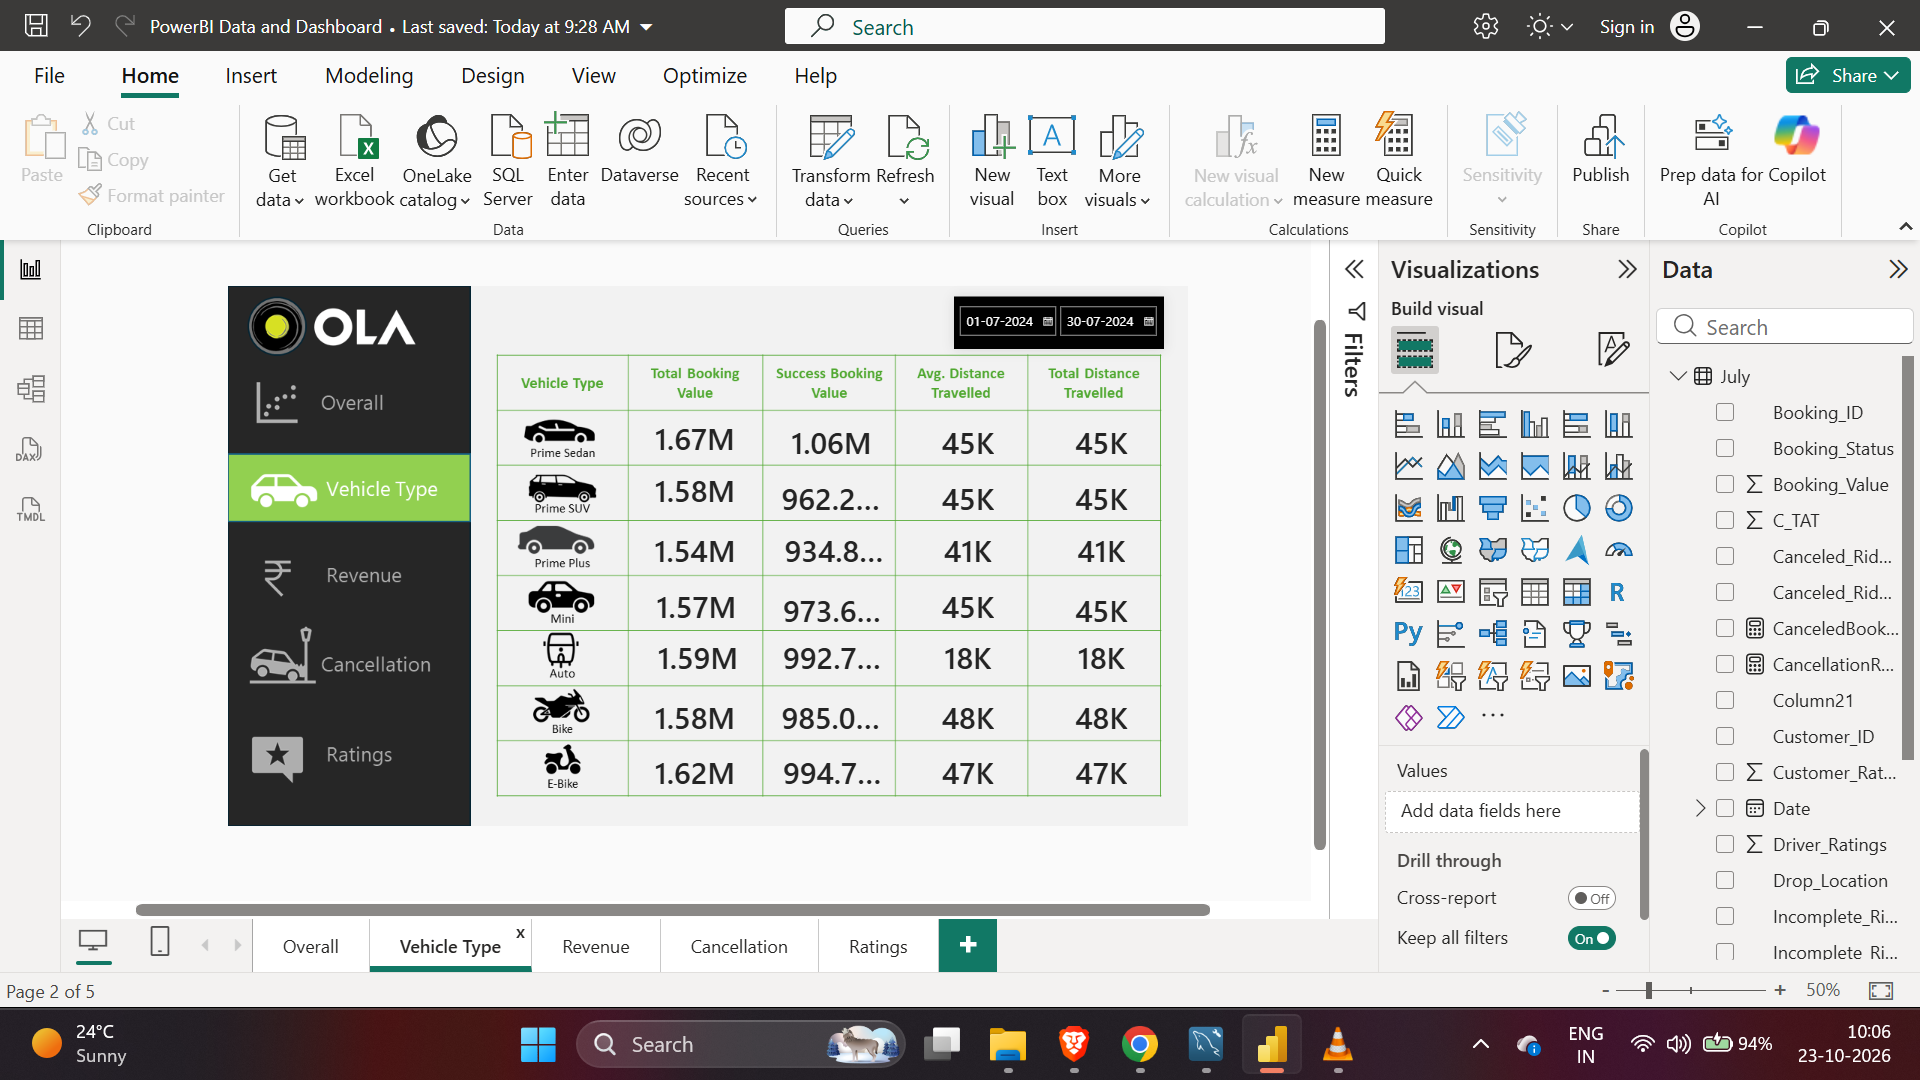

What the dashboard file says about the page in this screenshot:
{"tool":"powerbi","page":{"name":"Vehicle Type","canvas":[1920,1080],"ordinal":1},"visuals":[{"type":"actionButton","box":[317.3,403.2,324.5,85.9],"z":0},{"type":"actionButton","box":[317.3,515.4,324.5,85.9],"z":1000},{"type":"actionButton","box":[317.3,620.3,324.5,97.8],"z":2000},{"type":"actionButton","box":[317.3,756.3,324.5,97.8],"z":3000},{"type":"actionButton","box":[317.3,291.1,324.5,85.9],"z":4000},{"type":"cardVisual","fields":{"Data":["Sum(July.Booking_Value)"]},"box":[860,346.7,165,63.3],"z":4001},{"type":"cardVisual","fields":{"Data":["Sum(July.Booking_Value)"]},"box":[860,415,165,63.3],"z":4002},{"type":"cardVisual","fields":{"Data":["Sum(July.Booking_Value)"]},"box":[860,495,165,63.3],"z":4003},{"type":"cardVisual","fields":{"Data":["Sum(July.Booking_Value)"]},"box":[861.7,570,165,63.3],"z":4004},{"type":"cardVisual","fields":{"Data":["Sum(July.Booking_Value)"]},"box":[863.3,638.3,165,63.3],"z":4005},{"type":"cardVisual","fields":{"Data":["Sum(July.Booking_Value)"]},"box":[860,718.3,165,63.3],"z":4006},{"type":"cardVisual","fields":{"Data":["Sum(July.Booking_Value)"]},"box":[860,791.7,165,63.3],"z":4007},{"type":"cardVisual","fields":{"Data":["Sum(July.Booking_Value)"]},"box":[1041.7,351.7,165,63.3],"z":4008},{"type":"cardVisual","fields":{"Data":["Sum(July.Booking_Value)"]},"box":[1041.7,426.7,165,63.3],"z":4009},{"type":"cardVisual","fields":{"Data":["Sum(July.Booking_Value)"]},"box":[1045,495,165,63.3],"z":4010},{"type":"cardVisual","fields":{"Data":["Sum(July.Booking_Value)"]},"box":[1043.3,575,165,63.3],"z":4011},{"type":"cardVisual","fields":{"Data":["Sum(July.Booking_Value)"]},"box":[1043.3,638.3,165,63.3],"z":4012},{"type":"cardVisual","fields":{"Data":["Sum(July.Booking_Value)"]},"box":[1041.7,718.3,165,63.3],"z":4013},{"type":"cardVisual","fields":{"Data":["Sum(July.Booking_Value)"]},"box":[1043.3,791.7,165,63.3],"z":4014},{"type":"cardVisual","fields":{"Data":["Sum(July.Ride_Distance)"]},"box":[1223.3,351.7,165,63.3],"z":4015},{"type":"cardVisual","fields":{"Data":["Sum(July.Ride_Distance)"]},"box":[1223.3,426.7,165,63.3],"z":4016},{"type":"cardVisual","fields":{"Data":["Sum(July.Ride_Distance)"]},"box":[1223.3,495,165,63.3],"z":4017},{"type":"cardVisual","fields":{"Data":["Sum(July.Ride_Distance)"]},"box":[1223.3,570,165,63.3],"z":4018},{"type":"cardVisual","fields":{"Data":["Sum(July.Ride_Distance)"]},"box":[1223.3,638.3,165,63.3],"z":4019},{"type":"cardVisual","fields":{"Data":["Sum(July.Ride_Distance)"]},"box":[1223.3,718.3,165,63.3],"z":4020},{"type":"cardVisual","fields":{"Data":["Sum(July.Ride_Distance)"]},"box":[1223.3,791.7,165,63.3],"z":4021},{"type":"cardVisual","fields":{"Data":["Sum(July.Ride_Distance)"]},"box":[1401.7,351.7,165,63.3],"z":4022},{"type":"cardVisual","fields":{"Data":["Sum(July.Ride_Distance)"]},"box":[1401.7,426.7,165,63.3],"z":4023},{"type":"cardVisual","fields":{"Data":["Sum(July.Ride_Distance)"]},"box":[1401.7,495,165,63.3],"z":4024},{"type":"cardVisual","fields":{"Data":["Sum(July.Ride_Distance)"]},"box":[1401.7,575,165,63.3],"z":4025},{"type":"cardVisual","fields":{"Data":["Sum(July.Ride_Distance)"]},"box":[1401.7,638.3,165,63.3],"z":4026},{"type":"cardVisual","fields":{"Data":["Sum(July.Ride_Distance)"]},"box":[1401.7,718.3,165,63.3],"z":4027},{"type":"cardVisual","fields":{"Data":["Sum(July.Ride_Distance)"]},"box":[1401.7,791.7,165,63.3],"z":4028},{"type":"slicer","title":"Date","fields":{"Values":["July.Date"]},"box":[1287.5,190,280,70],"z":4029}]}

Visuals, with their boxes on the page's 1920x1080 design canvas (x1, y1, x2, y2). These are canvas units, not pixel positions in the 1920x1080 screenshot, which may show the page scaled, cropped or inside an application window:
actionButton: {"left": 317, "top": 403, "right": 642, "bottom": 489}
actionButton: {"left": 317, "top": 515, "right": 642, "bottom": 601}
actionButton: {"left": 317, "top": 620, "right": 642, "bottom": 718}
actionButton: {"left": 317, "top": 756, "right": 642, "bottom": 854}
actionButton: {"left": 317, "top": 291, "right": 642, "bottom": 377}
cardVisual - Sum(July.Booking_Value): {"left": 860, "top": 347, "right": 1025, "bottom": 410}
cardVisual - Sum(July.Booking_Value): {"left": 860, "top": 415, "right": 1025, "bottom": 478}
cardVisual - Sum(July.Booking_Value): {"left": 860, "top": 495, "right": 1025, "bottom": 558}
cardVisual - Sum(July.Booking_Value): {"left": 862, "top": 570, "right": 1027, "bottom": 633}
cardVisual - Sum(July.Booking_Value): {"left": 863, "top": 638, "right": 1028, "bottom": 702}
cardVisual - Sum(July.Booking_Value): {"left": 860, "top": 718, "right": 1025, "bottom": 782}
cardVisual - Sum(July.Booking_Value): {"left": 860, "top": 792, "right": 1025, "bottom": 855}
cardVisual - Sum(July.Booking_Value): {"left": 1042, "top": 352, "right": 1207, "bottom": 415}
cardVisual - Sum(July.Booking_Value): {"left": 1042, "top": 427, "right": 1207, "bottom": 490}
cardVisual - Sum(July.Booking_Value): {"left": 1045, "top": 495, "right": 1210, "bottom": 558}
cardVisual - Sum(July.Booking_Value): {"left": 1043, "top": 575, "right": 1208, "bottom": 638}
cardVisual - Sum(July.Booking_Value): {"left": 1043, "top": 638, "right": 1208, "bottom": 702}
cardVisual - Sum(July.Booking_Value): {"left": 1042, "top": 718, "right": 1207, "bottom": 782}
cardVisual - Sum(July.Booking_Value): {"left": 1043, "top": 792, "right": 1208, "bottom": 855}
cardVisual - Sum(July.Ride_Distance): {"left": 1223, "top": 352, "right": 1388, "bottom": 415}
cardVisual - Sum(July.Ride_Distance): {"left": 1223, "top": 427, "right": 1388, "bottom": 490}
cardVisual - Sum(July.Ride_Distance): {"left": 1223, "top": 495, "right": 1388, "bottom": 558}
cardVisual - Sum(July.Ride_Distance): {"left": 1223, "top": 570, "right": 1388, "bottom": 633}
cardVisual - Sum(July.Ride_Distance): {"left": 1223, "top": 638, "right": 1388, "bottom": 702}
cardVisual - Sum(July.Ride_Distance): {"left": 1223, "top": 718, "right": 1388, "bottom": 782}
cardVisual - Sum(July.Ride_Distance): {"left": 1223, "top": 792, "right": 1388, "bottom": 855}
cardVisual - Sum(July.Ride_Distance): {"left": 1402, "top": 352, "right": 1567, "bottom": 415}
cardVisual - Sum(July.Ride_Distance): {"left": 1402, "top": 427, "right": 1567, "bottom": 490}
cardVisual - Sum(July.Ride_Distance): {"left": 1402, "top": 495, "right": 1567, "bottom": 558}
cardVisual - Sum(July.Ride_Distance): {"left": 1402, "top": 575, "right": 1567, "bottom": 638}
cardVisual - Sum(July.Ride_Distance): {"left": 1402, "top": 638, "right": 1567, "bottom": 702}
cardVisual - Sum(July.Ride_Distance): {"left": 1402, "top": 718, "right": 1567, "bottom": 782}
cardVisual - Sum(July.Ride_Distance): {"left": 1402, "top": 792, "right": 1567, "bottom": 855}
"Date" slicer: {"left": 1288, "top": 190, "right": 1568, "bottom": 260}
